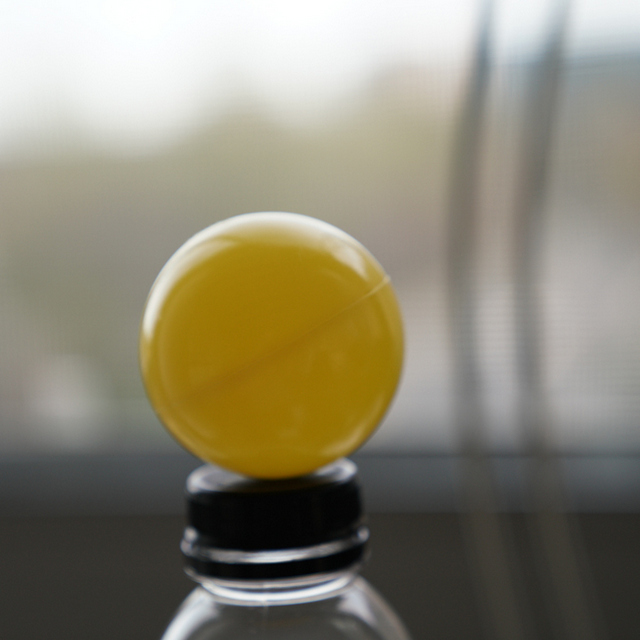Ball: (142, 211, 404, 475)
